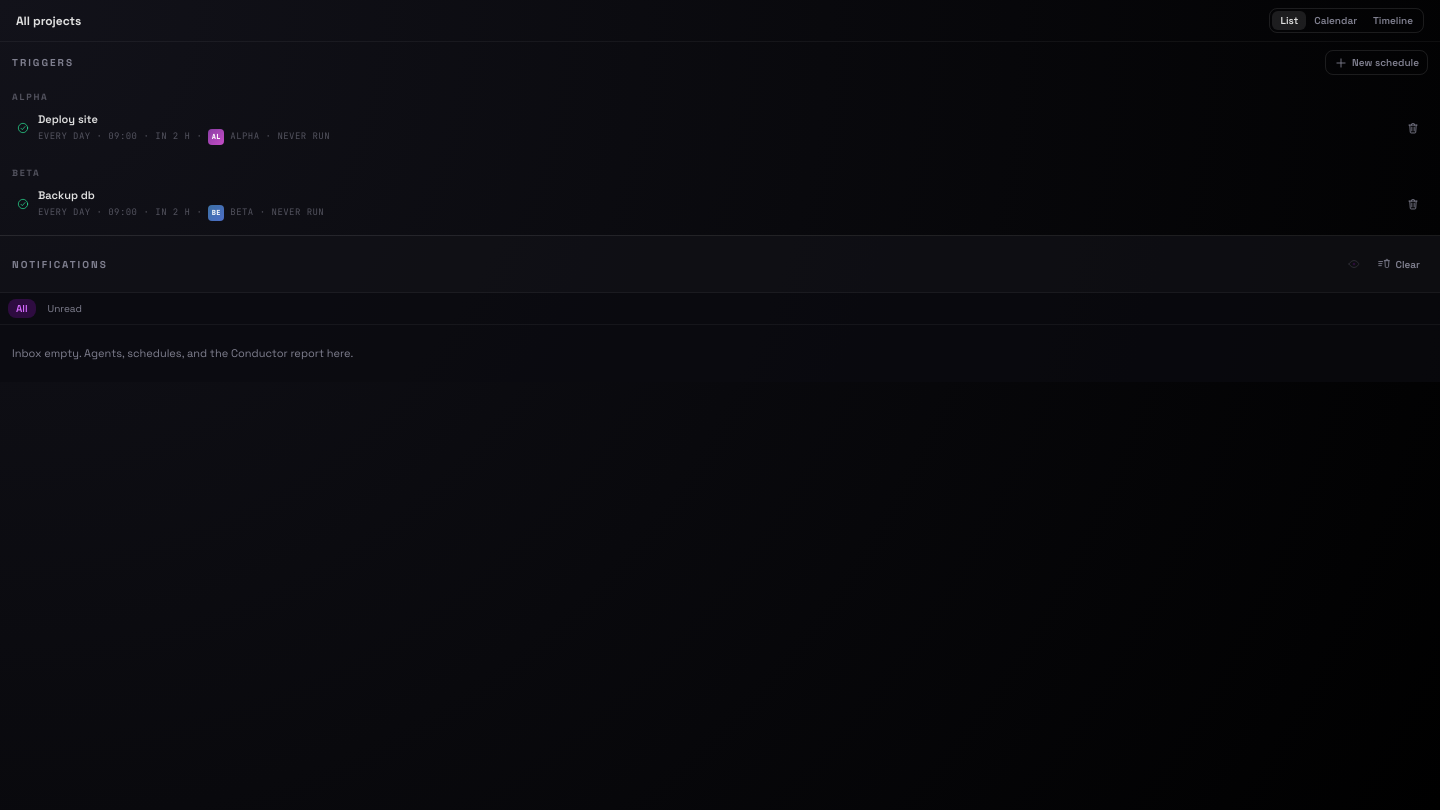
calendar view › states what failed means
Click the radio button with test id "schedule-view-calendar". click: x=1336, y=20
box: [1306,11,1365,30]
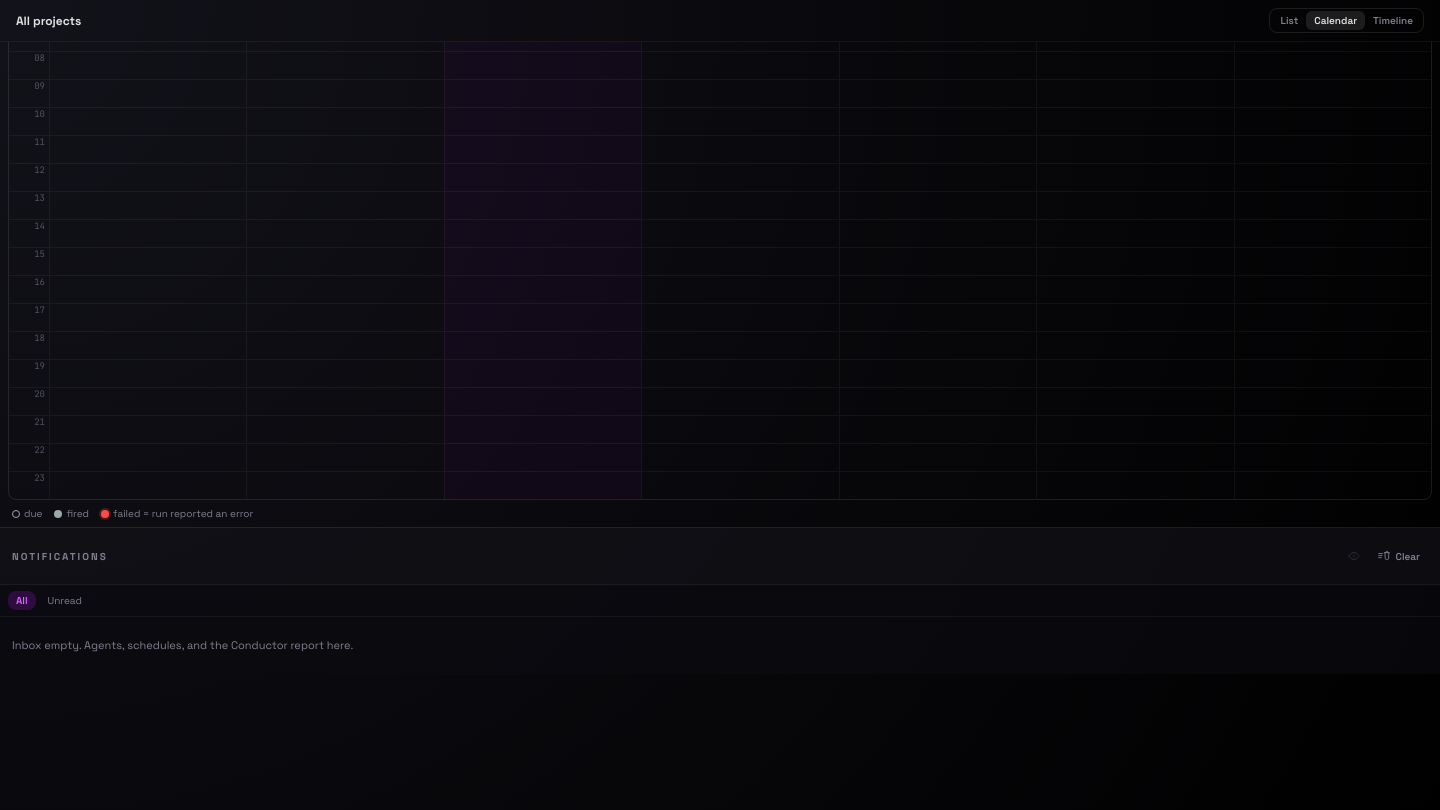
Expected: the element with test id "schedule-run-legend" shows "failed = run reported an error", [113,507,253,520]
